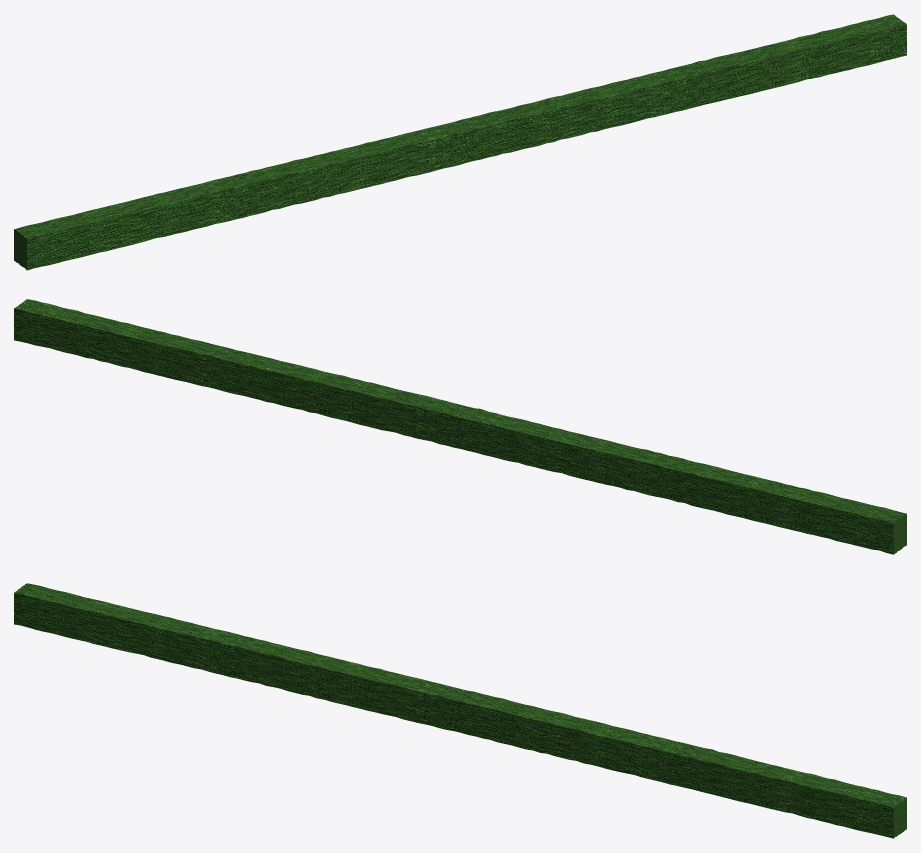
The model's file is Powerplant_Model_Structure_Ground_V2.FBX.
3 views of the same model, one above another, from view 1: azimuth 30°, elevation 25°; view 2: azimuth 150°, elevation 25°; view 3: azimuth 330°, elevation 25° (orthographic).
Parts seen in each view (by area): view 1: Box061; view 2: Box061; view 3: Box061.
Boxes of the visible parts, box(x1,y1,x2,y2) form: Box061: box(14, 14, 906, 270); Box061: box(14, 299, 906, 554); Box061: box(14, 583, 906, 838).
Size of the model in its own units: 40423 by 1442 by 1060.
